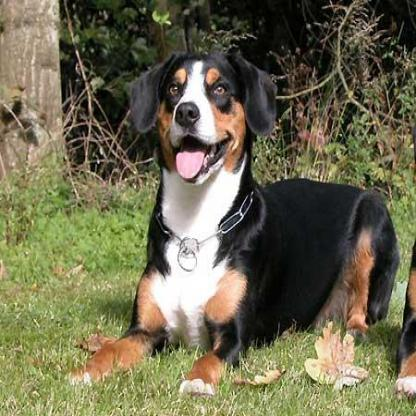EntleBucher: (66, 53, 395, 391), (398, 231, 414, 391)
